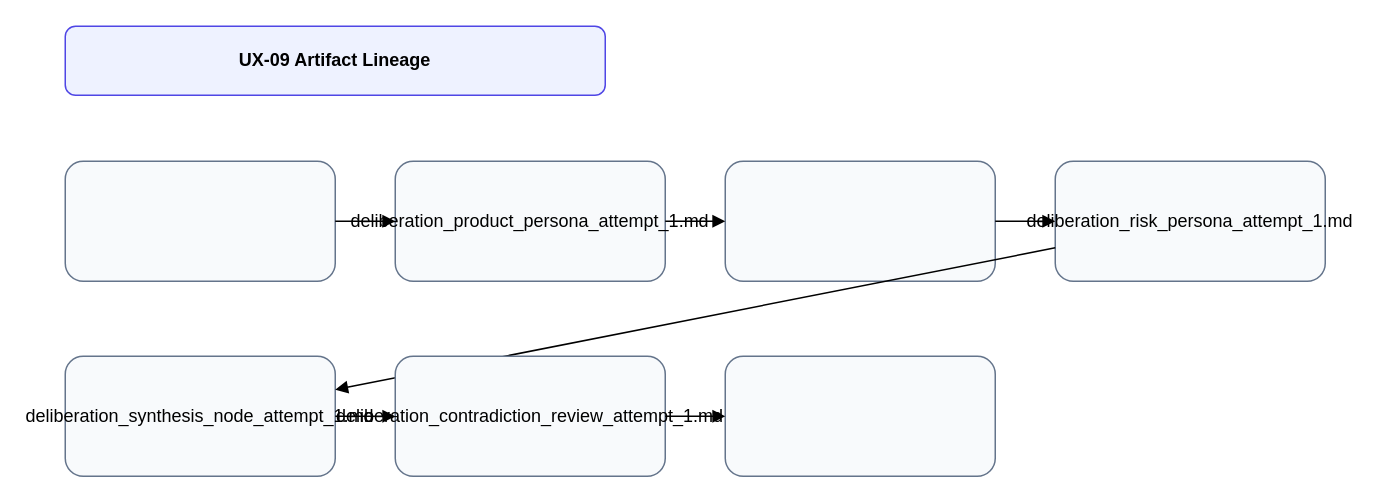
The diagram is 1379 pixels wide and 503 high, and some of its shapes have lost their labels. The shapes that lost their labels are listed below. From the top down, each one's box as (x1, y1, x2, y2) in pixels, then its label:
(64, 160, 335, 281): deliberation_orchestrator_attempt_1.md
(724, 160, 995, 281): deliberation_architecture_persona_attempt_1.md
(724, 355, 995, 476): deliberation_architecture_persona_attempt_2.md
